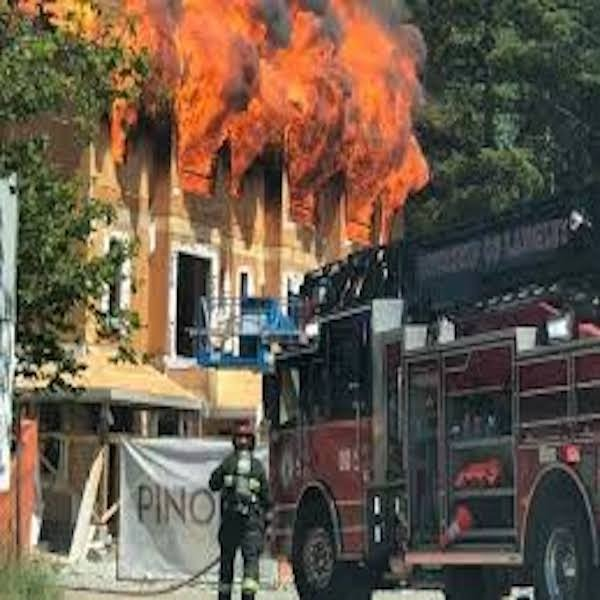fire: (179, 1, 431, 206), (63, 1, 180, 62)
